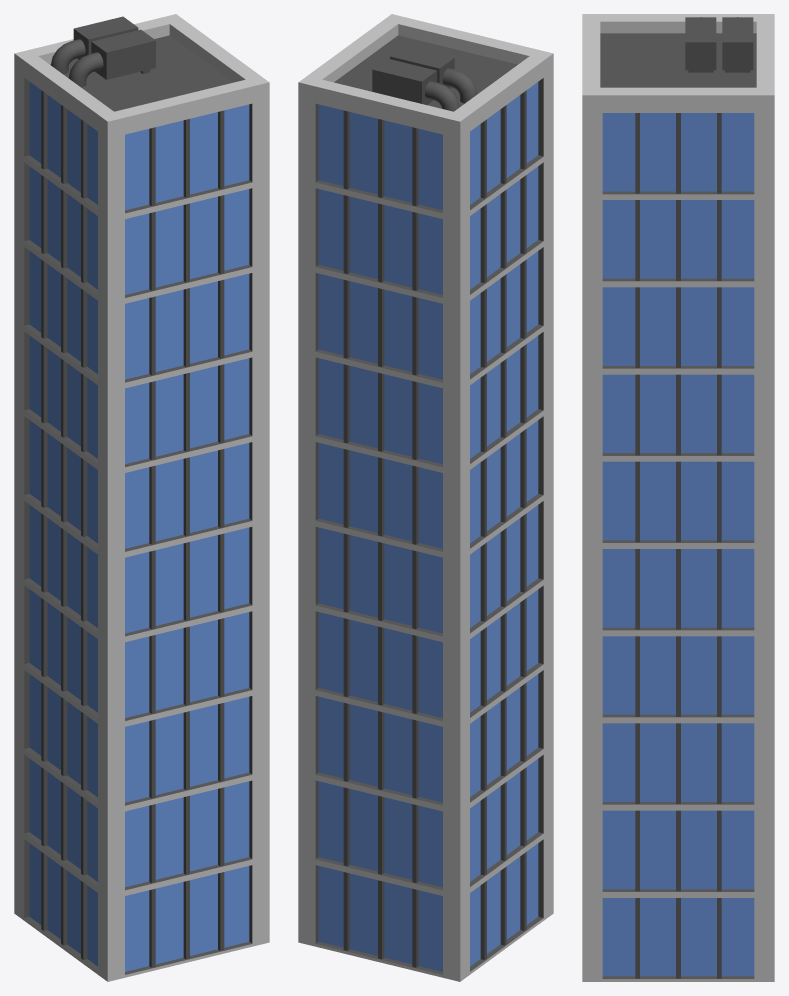
The model's file is BuildingModel.fbx.
3 renders of one model, left to right at view 1: azimuth 30°, elevation 25°; view 2: azimuth 150°, elevation 25°; view 3: azimuth 270°, elevation 25°, orthographic. The views are drawn at different scales.
Parts seen in each view (by area): view 1: BuildingModel; view 2: BuildingModel; view 3: BuildingModel.
Boxes of the visible parts, box(x1,y1,x2,y2) form: BuildingModel: box(14, 14, 269, 981); BuildingModel: box(298, 14, 553, 981); BuildingModel: box(582, 14, 774, 981).
Bounding box in the file's own units: 600 × 3123 × 600.
